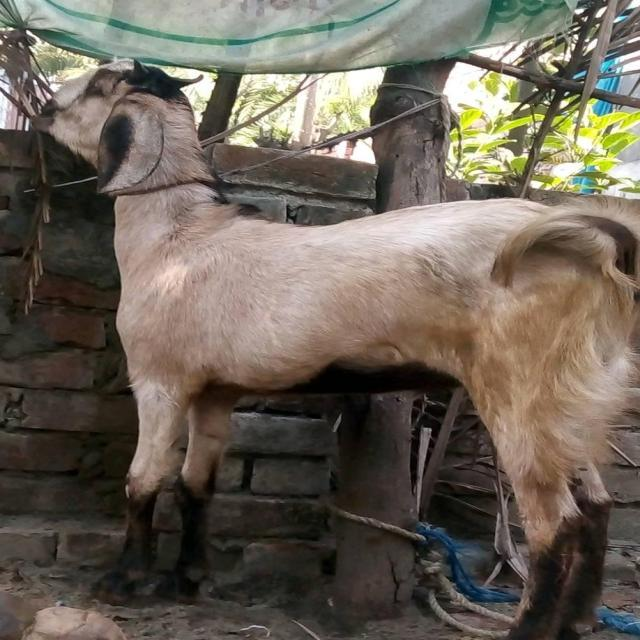Goat: (30, 56, 639, 638)
